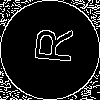R: (25, 25, 74, 65)
